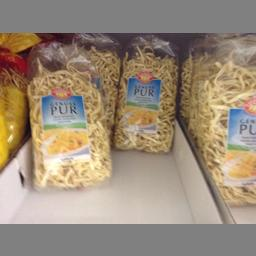pasta: (25, 44, 110, 190), (201, 36, 255, 206), (112, 33, 178, 152)
